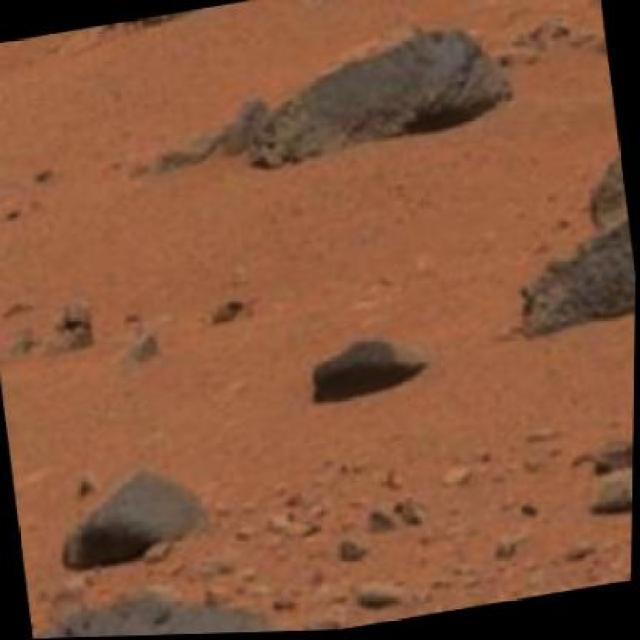rock: (236, 17, 519, 175), (498, 147, 636, 344), (51, 458, 212, 576), (31, 572, 298, 638), (124, 0, 398, 35), (310, 329, 432, 403)
